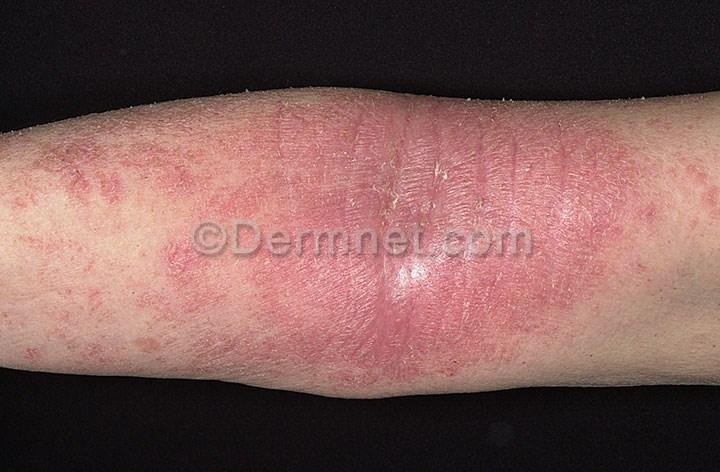Eritema 2: (241, 101, 634, 391)
xerosis 3: (0, 84, 719, 234)
